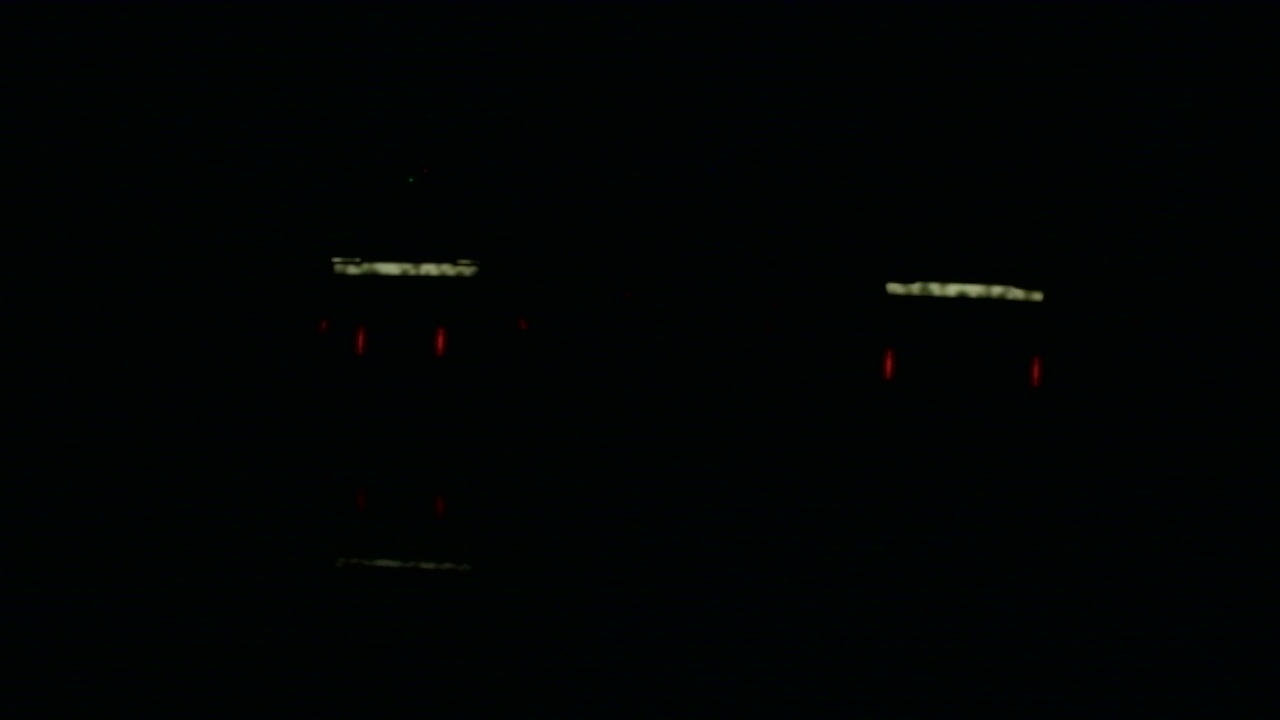lamp: (885, 349, 894, 383), (356, 329, 365, 355), (1035, 350, 1041, 384), (438, 328, 444, 357)
pair1: (356, 330, 444, 356)
pair2: (884, 350, 1041, 390)
